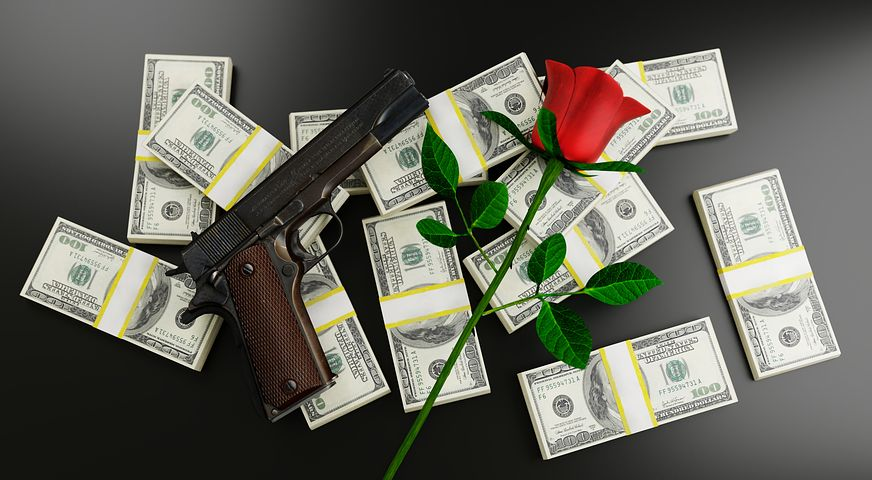gun: (168, 63, 431, 423)
